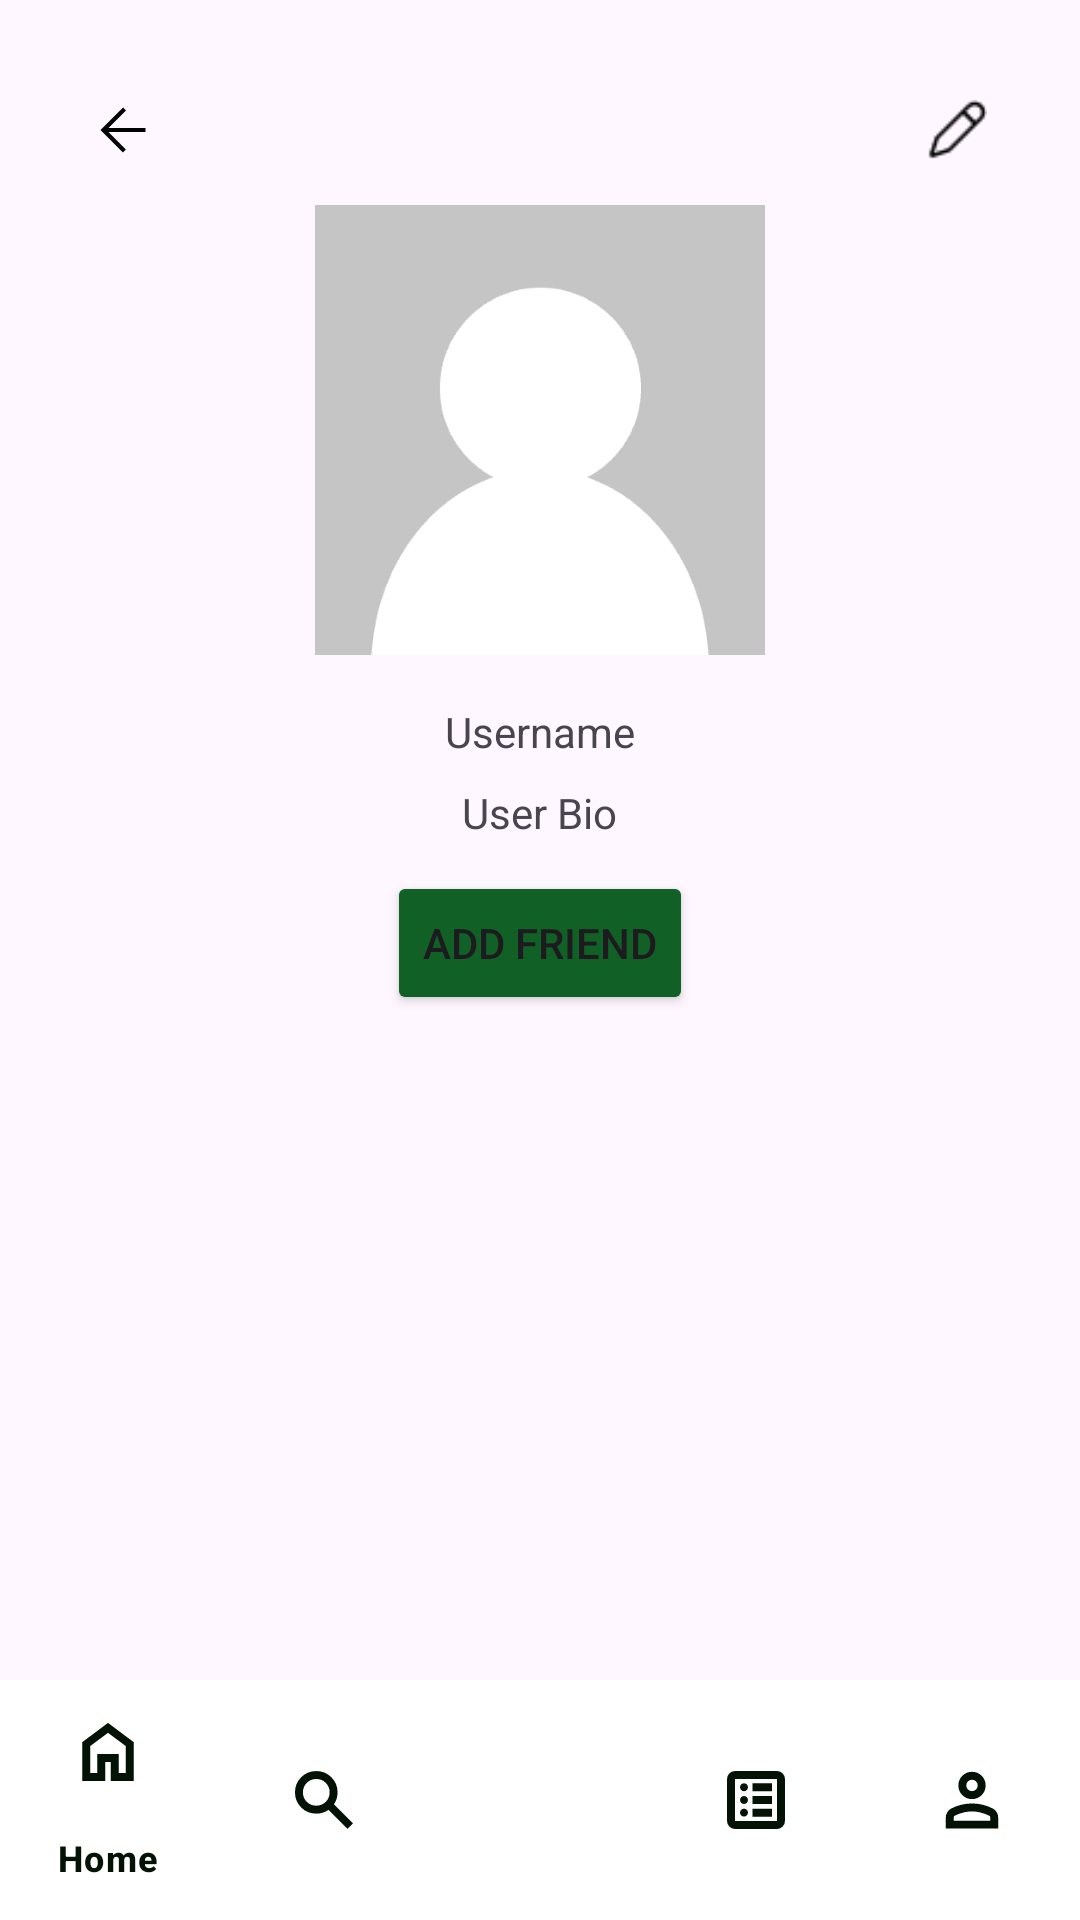

Where to tap for icons on this 1080 × 1920 app screen, as [x,y]:
arrow back: [123,130]
pen: [957,129]
